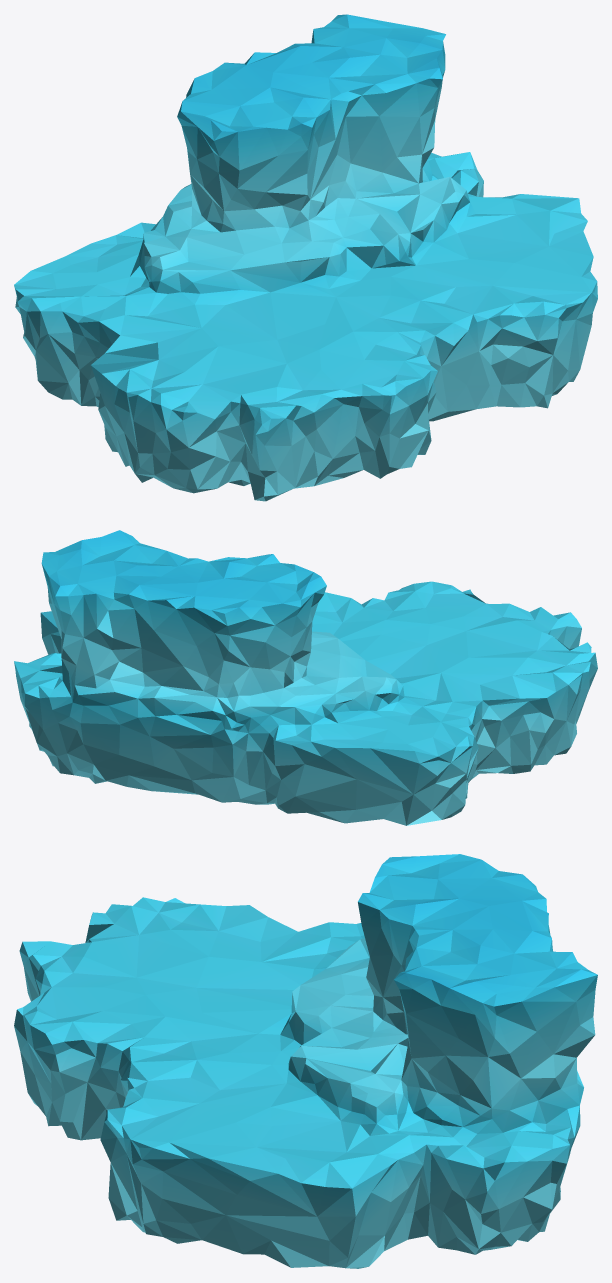
Rendered from ice_012.fbx.
3 views of the same model, one above another, from view 1: azimuth 30°, elevation 25°; view 2: azimuth 150°, elevation 25°; view 3: azimuth 270°, elevation 25° (orthographic). The views are drawn at different scales.
Parts seen in each view (by area): view 1: ice_012; view 2: ice_012; view 3: ice_012.
Boxes of the visible parts, x1,y1,x2,y2 form: ice_012: (14, 14, 597, 501); ice_012: (14, 530, 597, 825); ice_012: (14, 854, 597, 1268).
Size of the model in its own units: 744 by 636 by 313.
